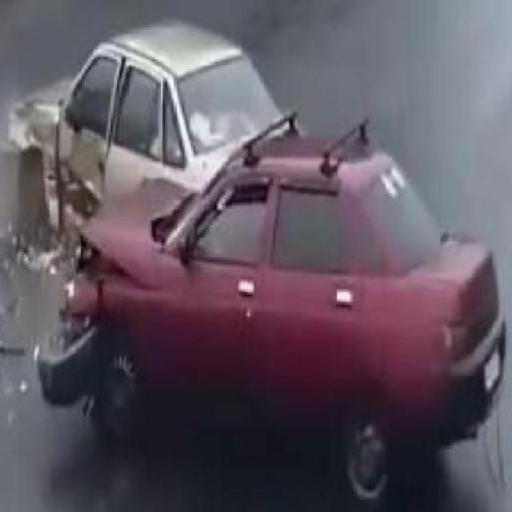小汽车撞小汽车: (14, 20, 492, 466)
